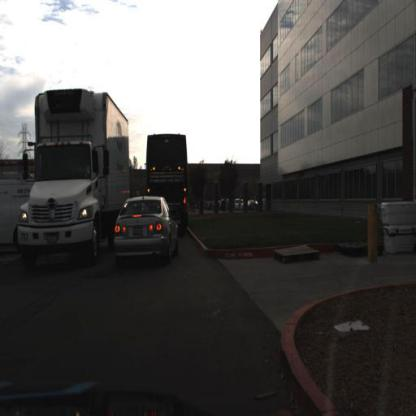car: (113, 193, 179, 263), (231, 195, 247, 214)
truck: (14, 87, 129, 255), (145, 131, 189, 226)
